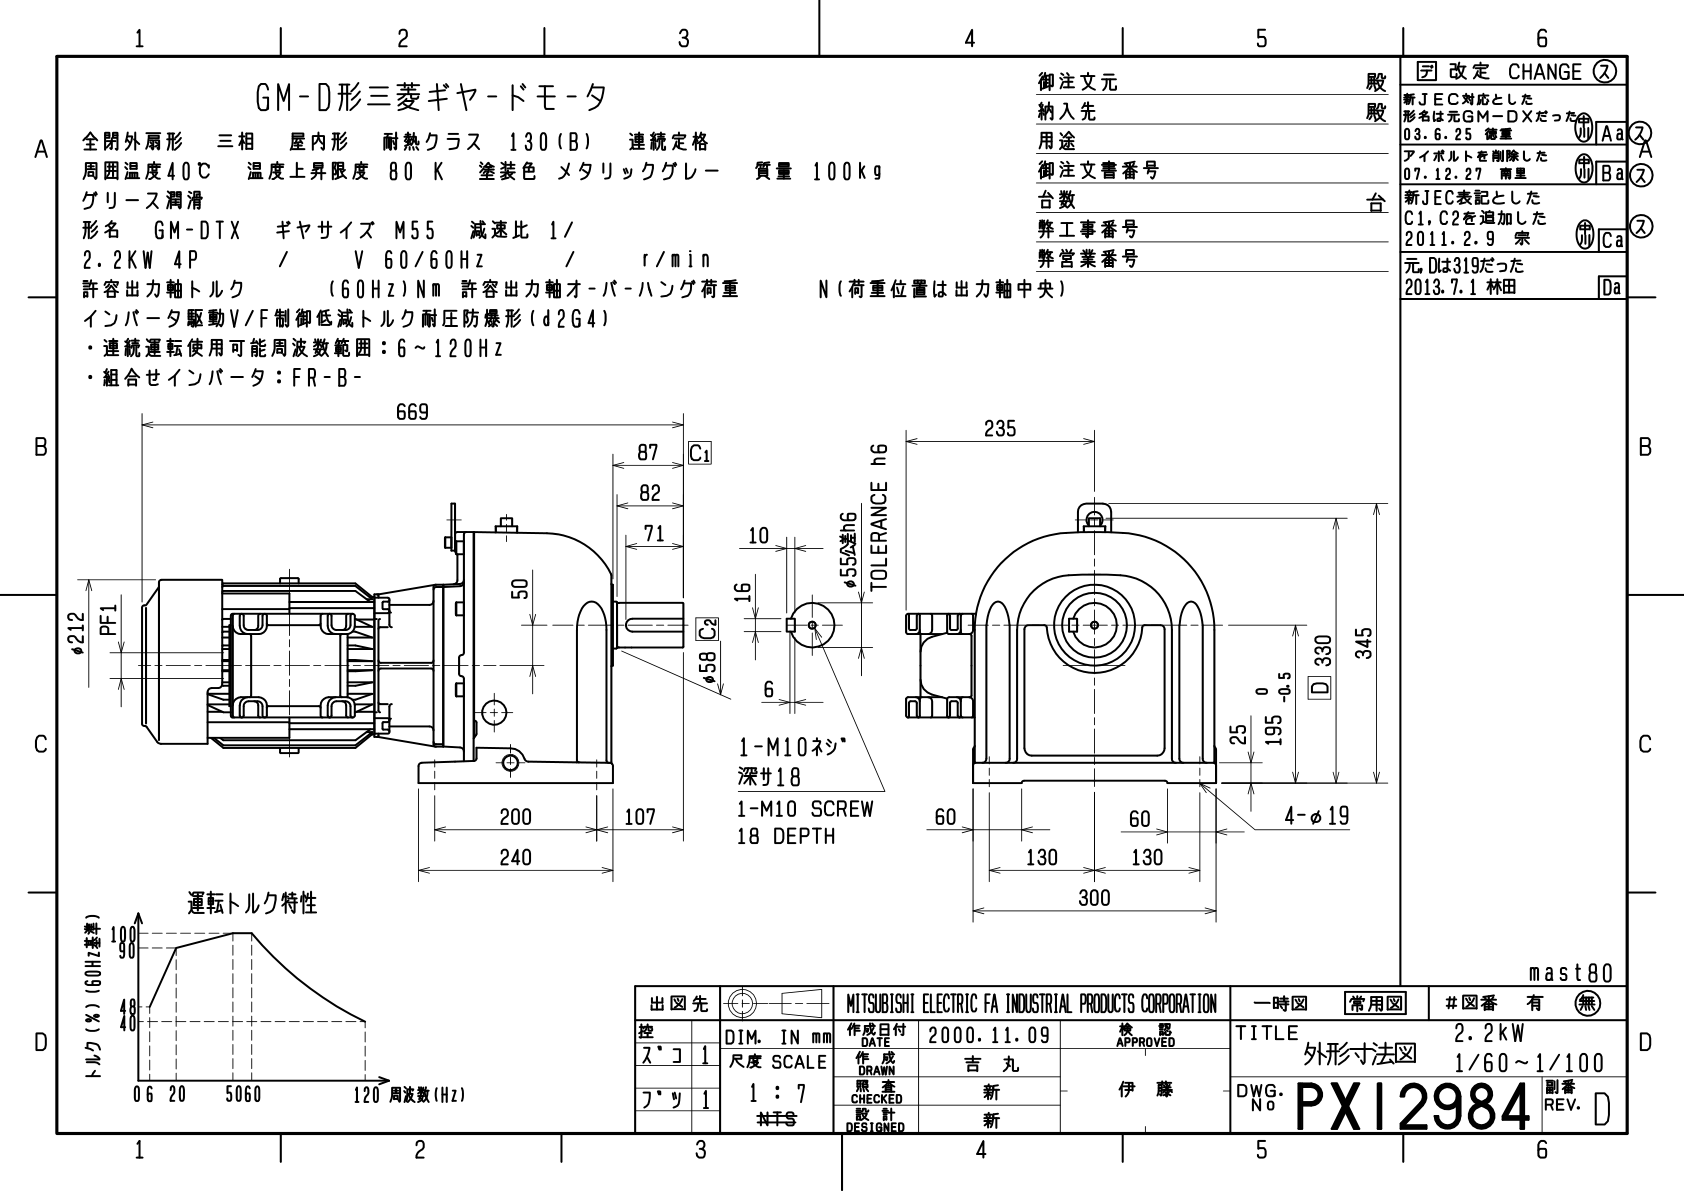GM_D_VF制御屋内_三相_脚: (64, 396, 1392, 978)
